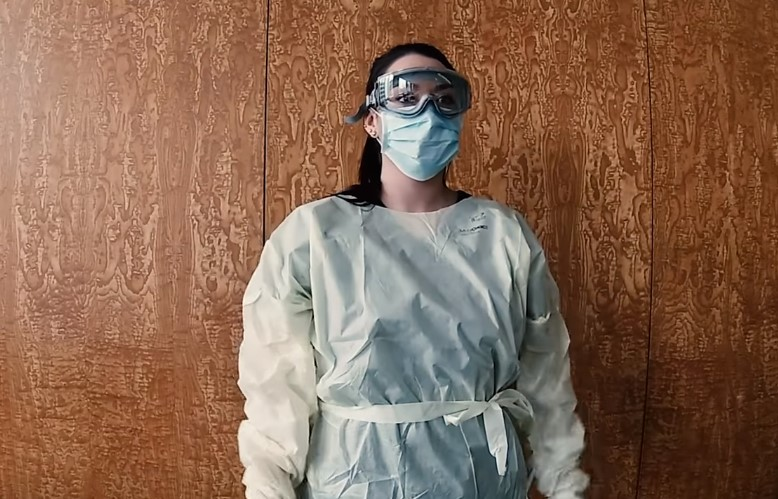face_with_mask: (361, 46, 476, 182)
